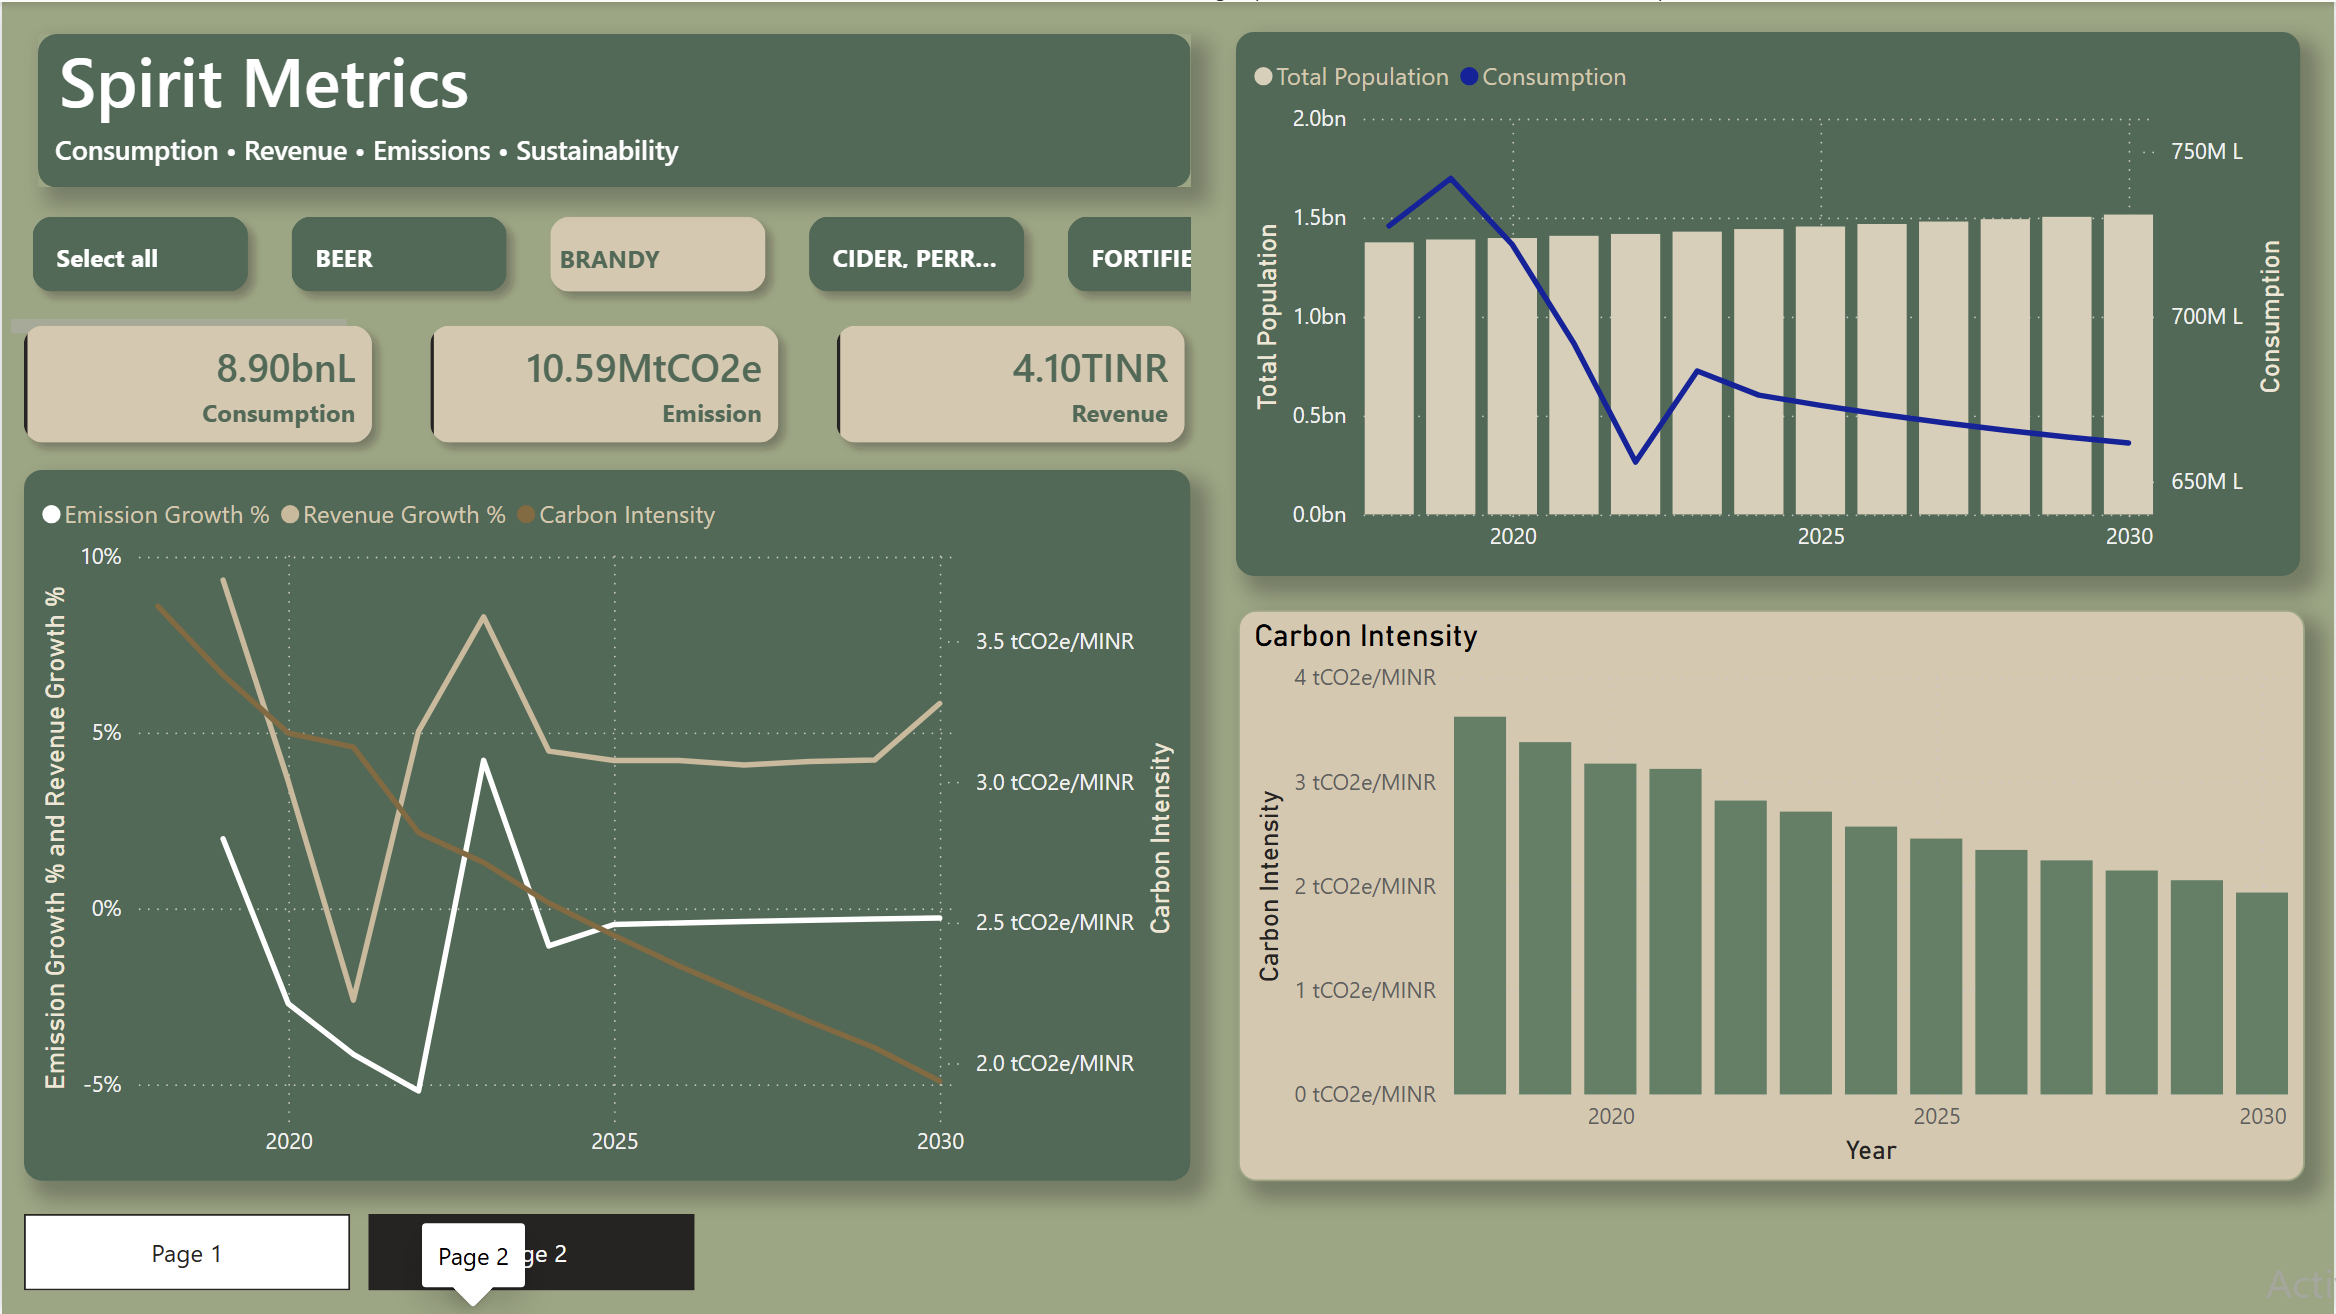

The dashboard page shown, as its layout file describes it:
{"tool":"powerbi","page":{"name":"Page 2","canvas":[1280,720],"ordinal":1},"visuals":[{"type":"advancedSlicerVisual","fields":{"Values":["dim_beverage type.Beverage Type"]},"box":[0,100.5,657.7,88.7],"z":0},{"type":"lineChart","fields":{"Category":["dim_date.Year"],"Y":["metrics.Emission Growth %","metrics.Revenue Growth %"],"Y2":["metrics.Carbon Intensity"]},"box":[11.8,257.2,640,390.2],"z":1000},{"type":"lineStackedColumnComboChart","fields":{"Category":["dim_date.Year"],"Y":["metrics.Total Population"],"Y2":["metrics.Consumption"]},"box":[677,16.3,583.8,298.6],"z":2000},{"type":"columnChart","title":"Carbon Intensity ","fields":{"Category":["dim_date.Year"],"Y":["metrics.Carbon Intensity"]},"box":[678.4,334,585.3,313.3],"z":3000},{"type":"cardVisual","fields":{"Data":["metrics.Consumption","metrics.Emission","metrics.Revenue"]},"box":[0,165.5,663.6,88.7],"z":4000},{"type":"pageNavigator","box":[11.8,665.1,369.5,42.9],"z":5000},{"type":"shape","box":[19.2,17.7,632.6,84.2],"z":6001},{"type":"textbox","box":[25.9,11.9,276.4,70.9],"z":6002},{"type":"textbox","box":[23.9,65.9,397.6,34],"z":6003}]}

Visuals, with their boxes on the page's 1280x720 design canvas (x1, y1, x2, y2). These are canvas units, not pixel positions in the 2336x1314 screenshot, which may show the page scaled, cropped or inside an application window:
advancedSlicerVisual - dim_beverage type.Beverage Type: region(0, 100, 658, 189)
lineChart - dim_date.Year x metrics.Emission Growth %: region(12, 257, 652, 647)
lineStackedColumnComboChart - dim_date.Year x metrics.Total Population: region(677, 16, 1261, 315)
"Carbon Intensity " columnChart: region(678, 334, 1264, 647)
cardVisual - metrics.Consumption x metrics.Emission: region(0, 166, 664, 254)
pageNavigator: region(12, 665, 381, 708)
shape: region(19, 18, 652, 102)
textbox: region(26, 12, 302, 83)
textbox: region(24, 66, 422, 100)
